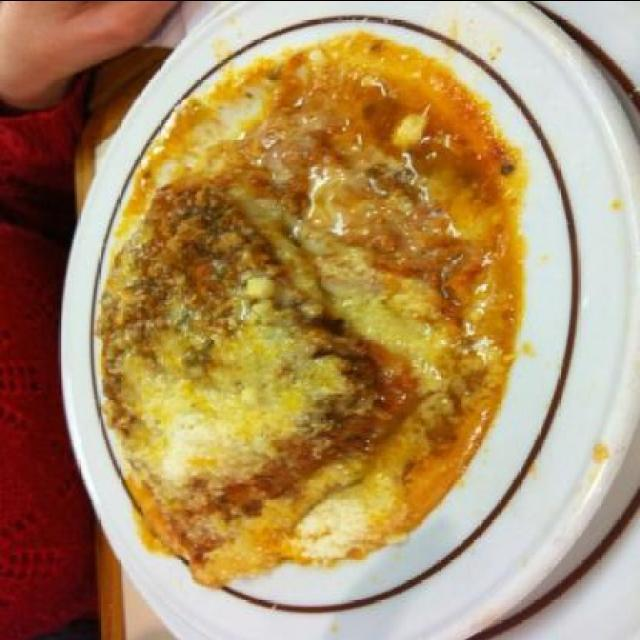Lasagna: (90, 154, 408, 546)
